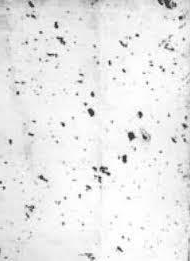Spalling: (1, 1, 190, 261)
